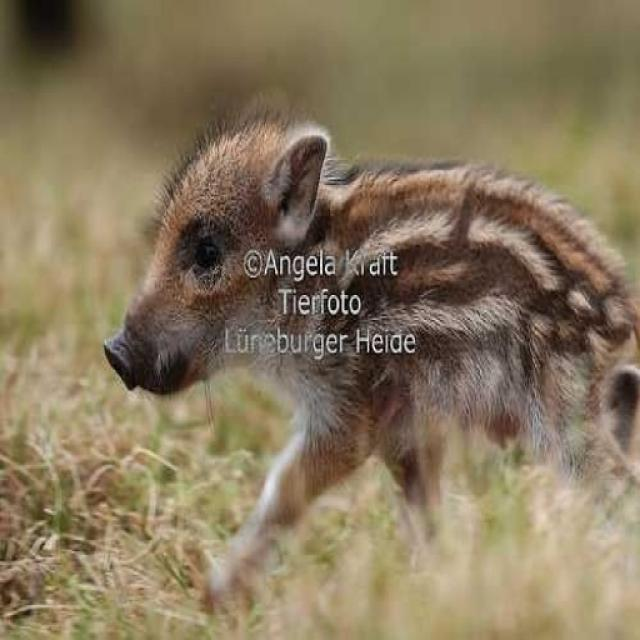pig: (78, 74, 640, 582)
